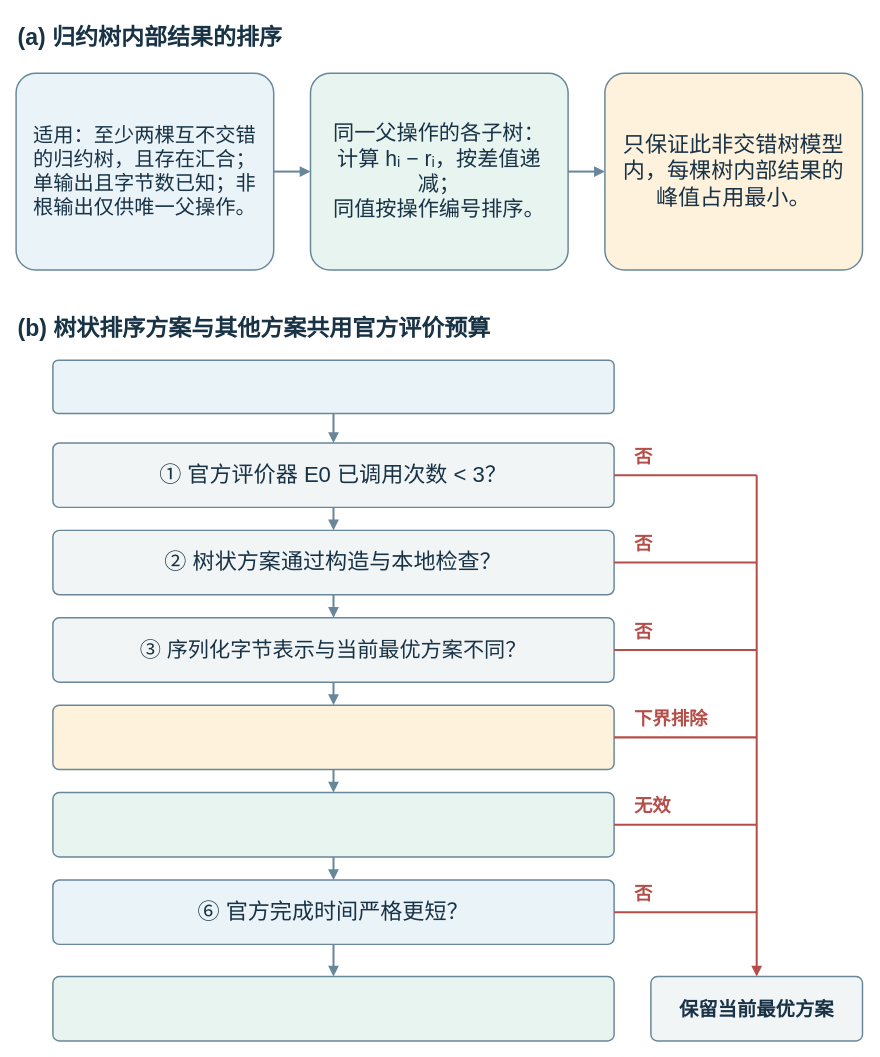
Some shapes in this 880 by 1057 pixel diagram are drawn without their labels. Each missing label, with the centre of its shape:
"④ 若可得下界：是否 ≥ 当前最优完成时间？ 下界不可得时继续评价。" belongs at point 333,737.
"⑤ 在剩余预算内调用官方 E0；结果有效？" belongs at point 333,824.
"基础方案与先行方案已产生当前最优方案" belongs at point 333,386.
"替换当前最优方案" belongs at point 333,1008.
